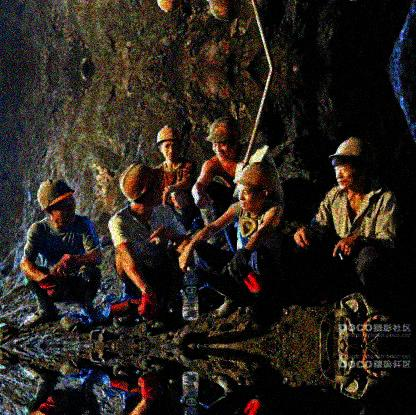helmet: (151, 126, 192, 226), (233, 161, 280, 214), (118, 163, 164, 214), (330, 136, 372, 191), (36, 178, 77, 233), (205, 118, 239, 161), (157, 126, 182, 161)
